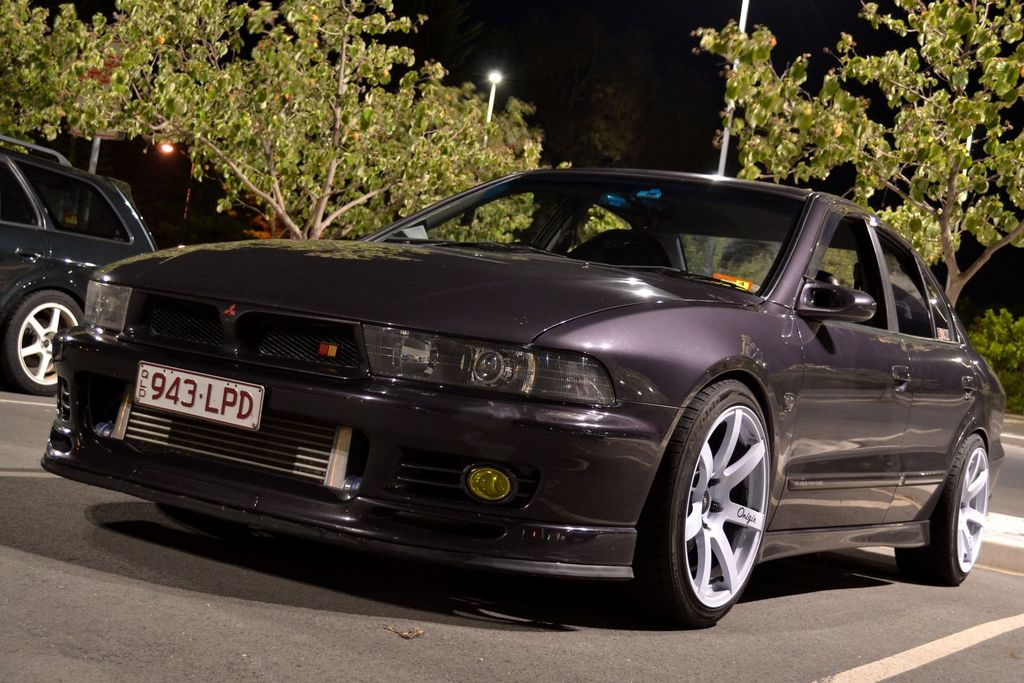Car: (38, 165, 1004, 630), (0, 130, 156, 394)
